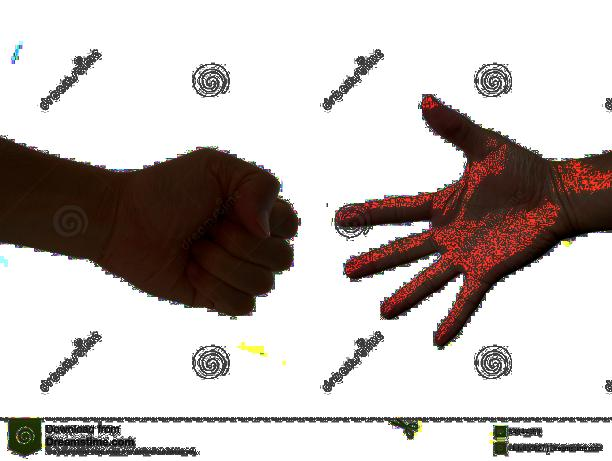Paper: (332, 90, 563, 350)
Rock: (102, 141, 302, 324)
